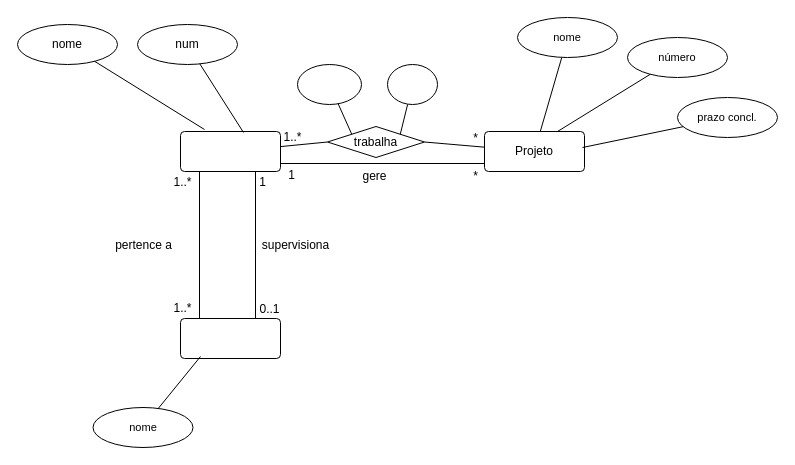
Some shapes in this 795 by 465 pixel diagram are drawn without their labels. The shapes that lost their labels are listed below. From the top down, each one's centre as x and y in pixels, then its label:
At [329,84]: "num_horas".
At [412,84]: "mês".
At [230,151]: "Empregado".
At [230,338]: "Departamento".
